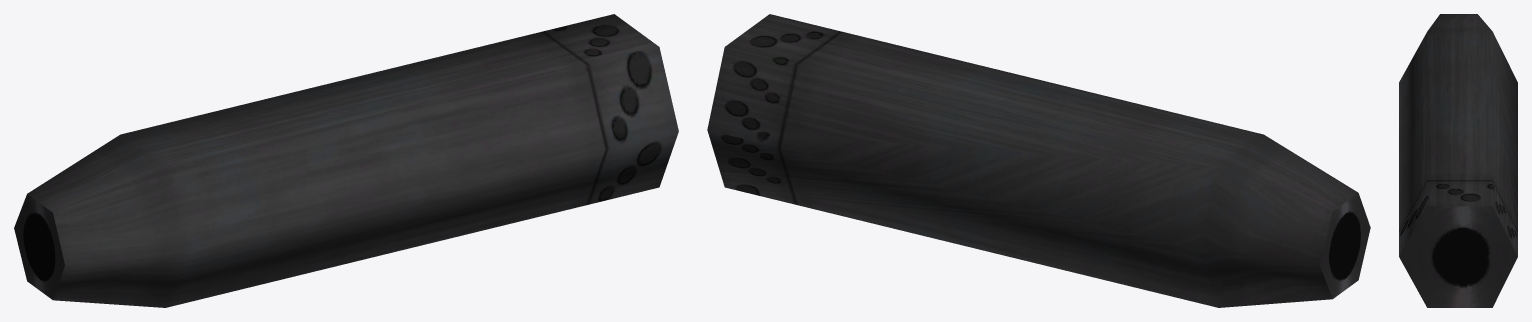
Rendered from t6_attach_sniper_silencer1_world_LOD1.obj.
3 renders of one model, left to right at view 1: azimuth 30°, elevation 25°; view 2: azimuth 150°, elevation 25°; view 3: azimuth 270°, elevation 25°, orthographic. The views are drawn at different scales.
Parts seen in each view (by area): view 1: mtl_t6_attach_sniper_silencer1; view 2: mtl_t6_attach_sniper_silencer1; view 3: mtl_t6_attach_sniper_silencer1.
Part boxes in pixels (x1,y1,x2,y2): mtl_t6_attach_sniper_silencer1: [14, 14, 678, 307]; mtl_t6_attach_sniper_silencer1: [707, 14, 1370, 307]; mtl_t6_attach_sniper_silencer1: [1399, 14, 1517, 307].
Bounding box in the file's own units: 24.32 × 5.46 × 5.77.
